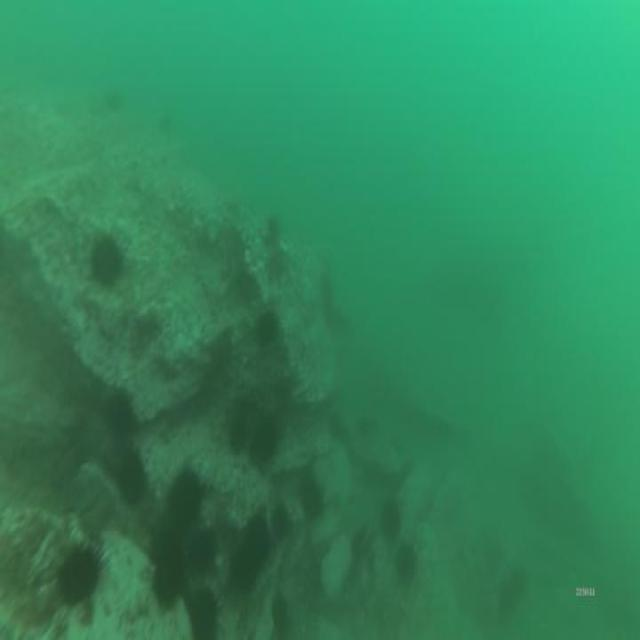echinus: (55, 534, 108, 610), (86, 229, 127, 296), (114, 447, 150, 512), (102, 384, 137, 449), (169, 468, 201, 534), (188, 583, 224, 640), (152, 553, 185, 613), (244, 514, 274, 574), (228, 539, 258, 594), (186, 526, 218, 575), (298, 471, 325, 526), (393, 539, 419, 596), (378, 498, 402, 548), (252, 308, 279, 351), (253, 419, 279, 463), (268, 496, 290, 547), (268, 591, 290, 638)
